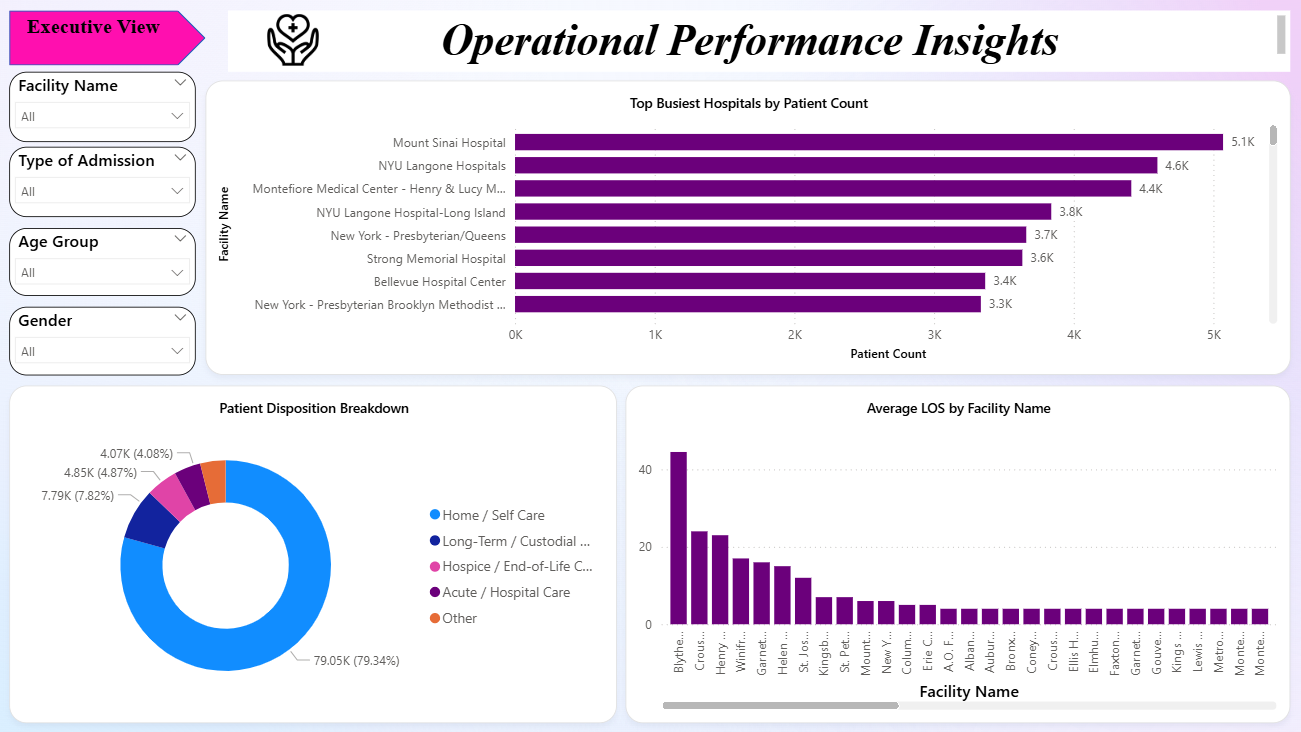

Layout of this report page (visuals, bound fields, positions):
{"tool":"powerbi","page":{"name":"Operations View","canvas":[1280,720],"ordinal":1},"visuals":[{"type":"clusteredBarChart","title":"Top Busiest Hospitals by Patient Count","fields":{"Category":["Hospitalops_cleaned1.Facility Name"],"Y":["CountNonNull(Hospitalops_cleaned1.Facility Name)"]},"box":[207.5,80.8,1061.7,288.3],"z":0},{"type":"clusteredColumnChart","fields":{"Category":["Hospitalops_cleaned1.Facility Name"],"Y":["Hospitalops_cleaned1.Average LOS"]},"box":[618.9,378.8,650.3,330.6],"z":1000},{"type":"donutChart","title":"Patient Disposition Breakdown","fields":{"Category":["Hospitalops_cleaned1.Patient Disposition"],"Y":["CountNonNull(Hospitalops_cleaned1.Patient Disposition)"]},"box":[15.7,378.8,594.8,330.6],"z":2000},{"type":"slicer","fields":{"Values":["Hospitalops_cleaned1.Facility Name"]},"box":[15.9,72.1,182.2,68.5],"z":3000},{"type":"slicer","fields":{"Values":["Hospitalops_cleaned1.Age Group"]},"box":[15.9,225,182.2,66],"z":4000},{"type":"textbox","box":[229.9,12.2,1039.4,59.9],"z":5000},{"type":"slicer","fields":{"Values":["Hospitalops_cleaned1.Type of Admission"]},"box":[15.9,145.5,182.2,68.5],"z":6000},{"type":"slicer","fields":{"Values":["Hospitalops_cleaned1.Gender"]},"box":[15.9,302,182.2,67.3],"z":7000},{"type":"image","box":[229.9,11,127.2,59.9],"z":8000},{"type":"shape","box":[15.9,12.2,192,53.8],"z":9001},{"type":"actionButton","title":"Executive View","box":[15.9,17.1,165.1,48.9],"z":9002}]}

Visuals, with their boxes in screenshot pixels (x1, y1, x2, y2), scaled from the page's 1280x720 canvas onto the 1301x732 screenshot:
"Top Busiest Hospitals by Patient Count" clusteredBarChart: locate(211, 82, 1290, 375)
clusteredColumnChart - Hospitalops_cleaned1.Facility Name x Hospitalops_cleaned1.Average LOS: locate(629, 385, 1290, 721)
"Patient Disposition Breakdown" donutChart: locate(16, 385, 621, 721)
slicer - Hospitalops_cleaned1.Facility Name: locate(16, 73, 201, 143)
slicer - Hospitalops_cleaned1.Age Group: locate(16, 229, 201, 296)
textbox: locate(234, 12, 1290, 73)
slicer - Hospitalops_cleaned1.Type of Admission: locate(16, 148, 201, 218)
slicer - Hospitalops_cleaned1.Gender: locate(16, 307, 201, 375)
image: locate(234, 11, 363, 72)
shape: locate(16, 12, 211, 67)
"Executive View" actionButton: locate(16, 17, 184, 67)
